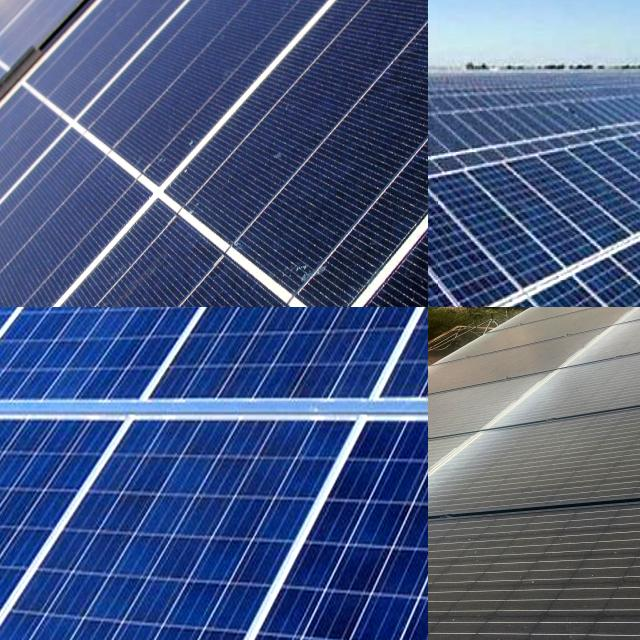crack: (0, 307, 428, 640), (0, 0, 428, 307), (428, 159, 583, 303), (458, 156, 613, 290), (495, 141, 640, 268), (428, 168, 527, 307), (428, 173, 511, 307), (428, 210, 522, 307)
dust: (498, 599, 640, 640), (428, 603, 506, 640)
